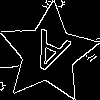A: (23, 28, 72, 84)
